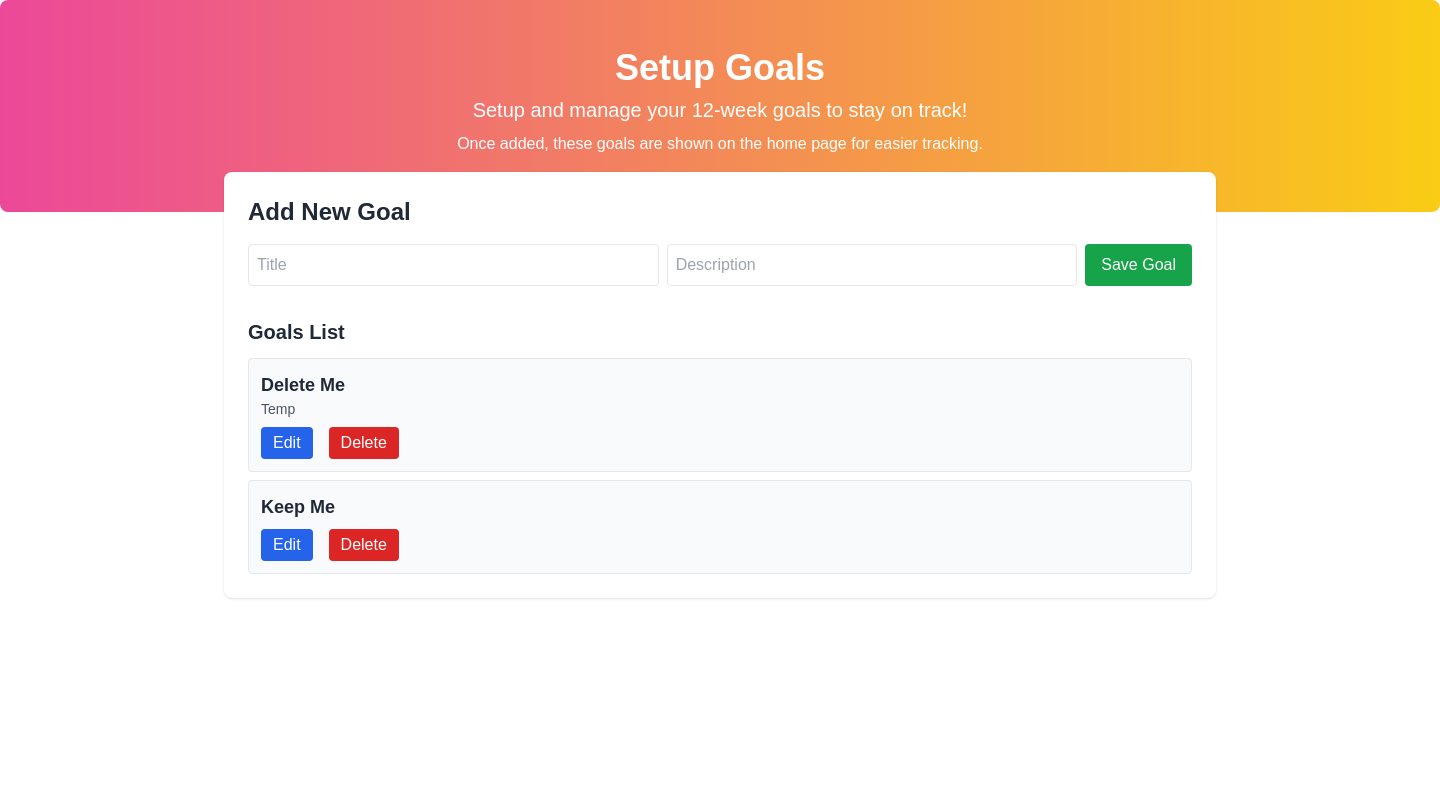
Test: SetupGoalsPage (setup-goals.tsx) › deletes a goal
// Let's click the first "Delete" (for "Delete Me")
Click the button "Delete" below "Delete Me" at (364, 443), box x1=329 y1=427 x2=399 y2=459
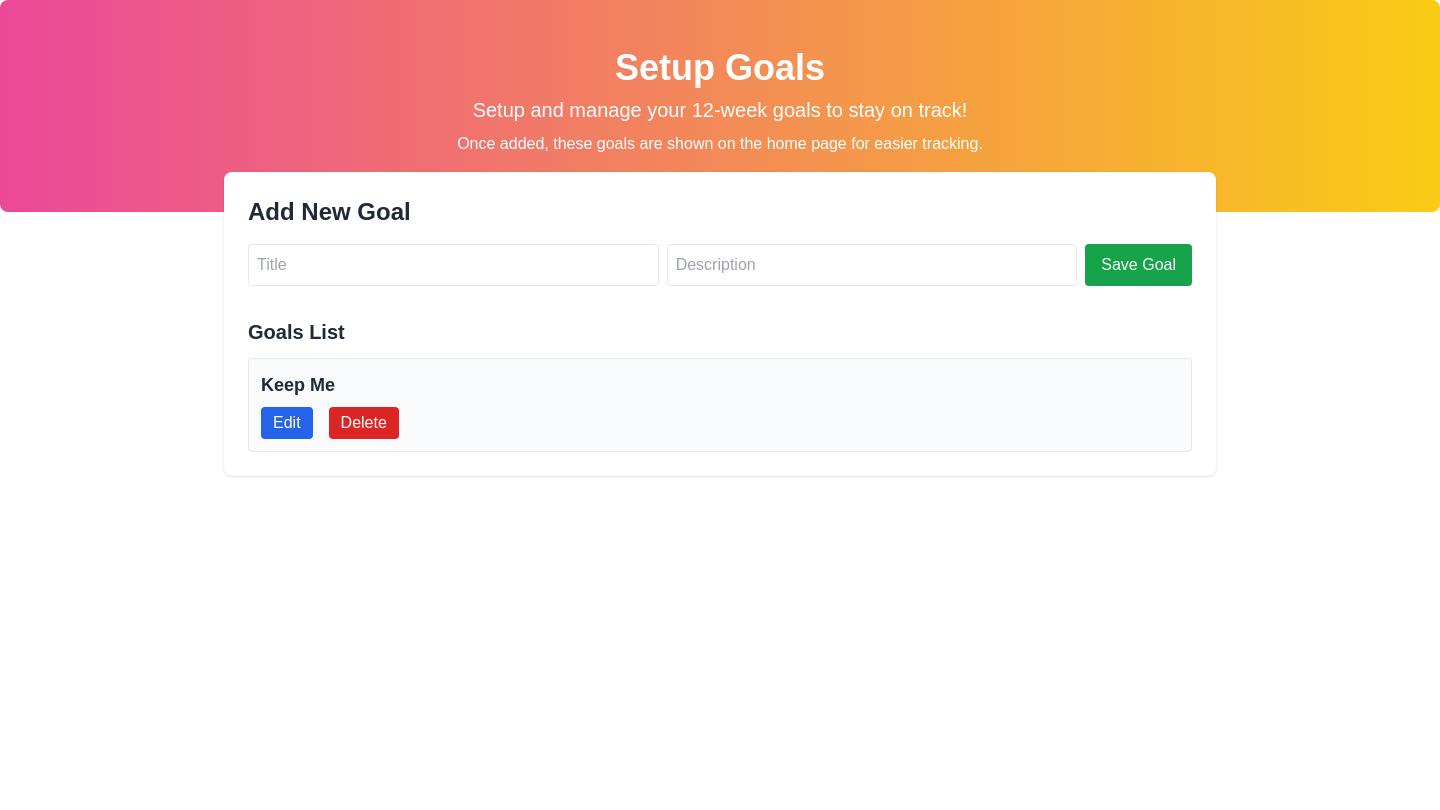
Check: the text "Keep Me" is shown, box x1=261 y1=375 x2=335 y2=395
Check: the text "Delete Me" is gone
